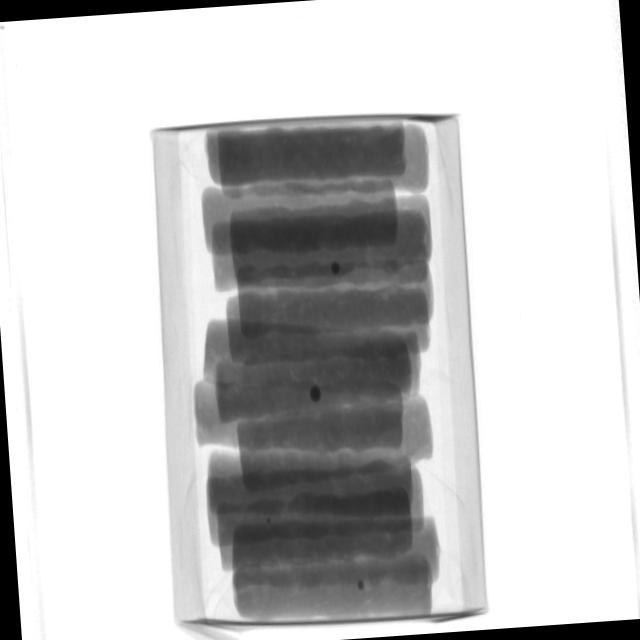ym: (311, 385, 324, 403), (333, 263, 343, 275), (266, 514, 273, 528), (359, 582, 368, 592)
